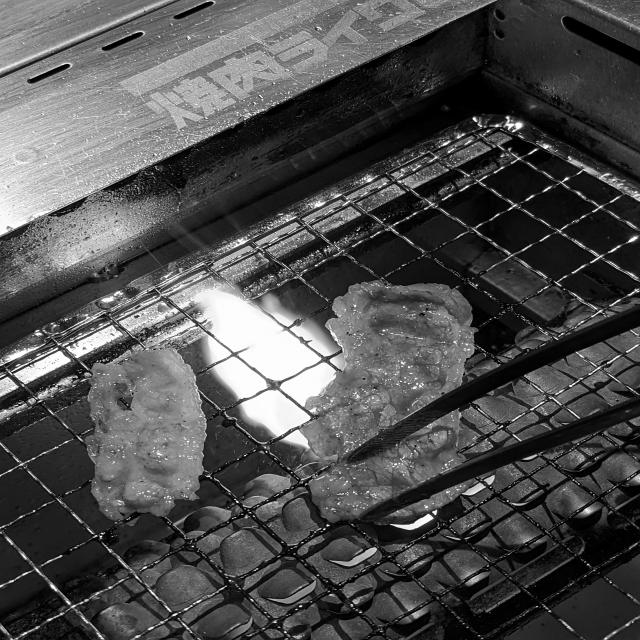OK cooked beef,: (288, 273, 493, 552), (52, 335, 216, 525)
